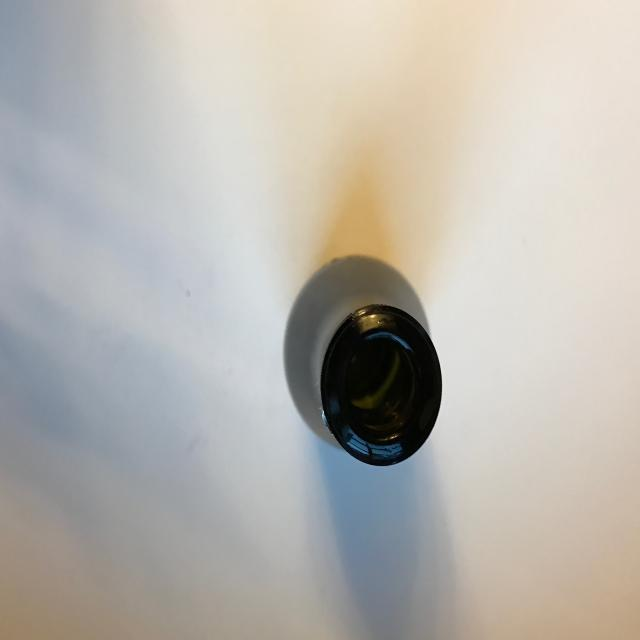glass: (318, 302, 442, 466)
